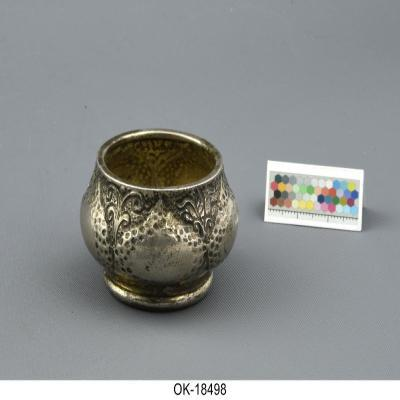dpi: (80, 128, 240, 314)
